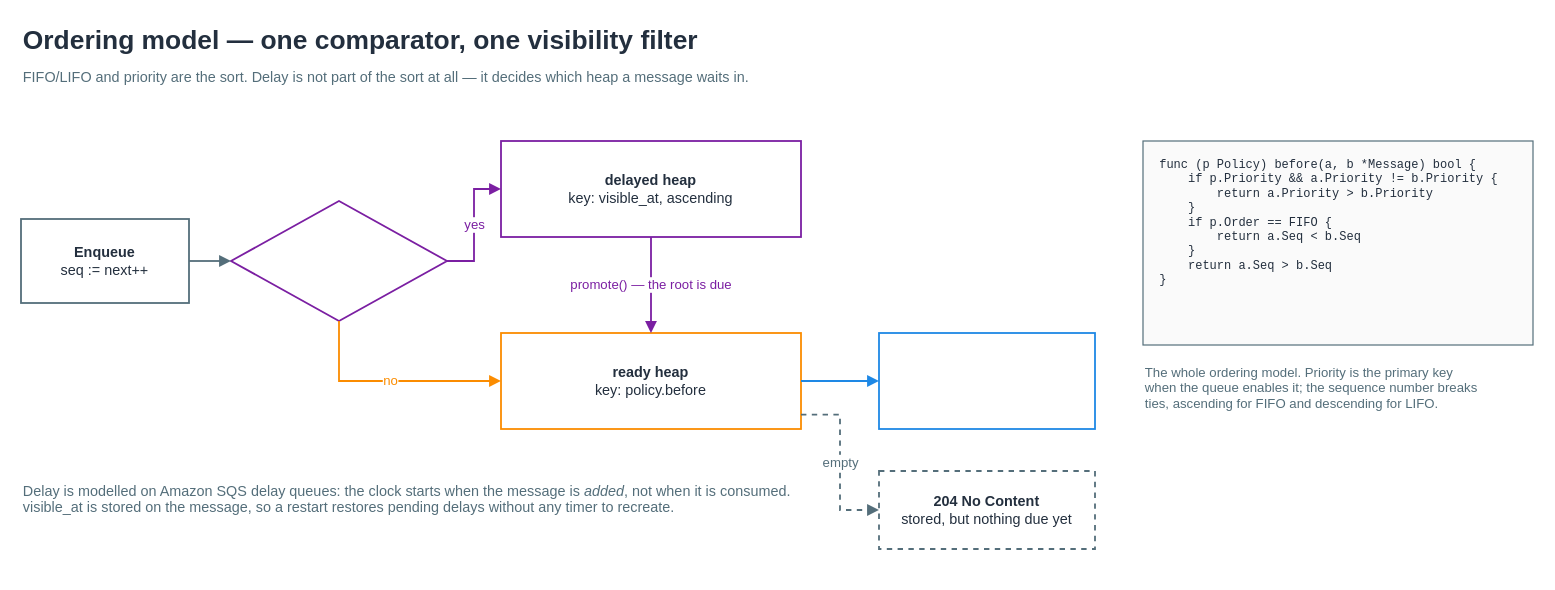
This 1555x590 diagram has some shape labels left out. Each missing label, with the box of its shape:
Dequeue take the heap root: (878, 332, 1095, 429)
visible_at > now ?: (230, 200, 447, 321)
